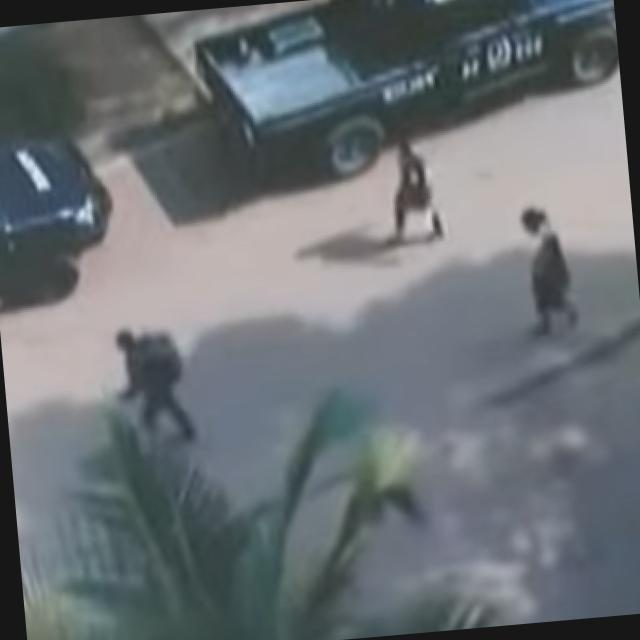person: (110, 325, 196, 448), (516, 204, 580, 340), (377, 133, 445, 247)
